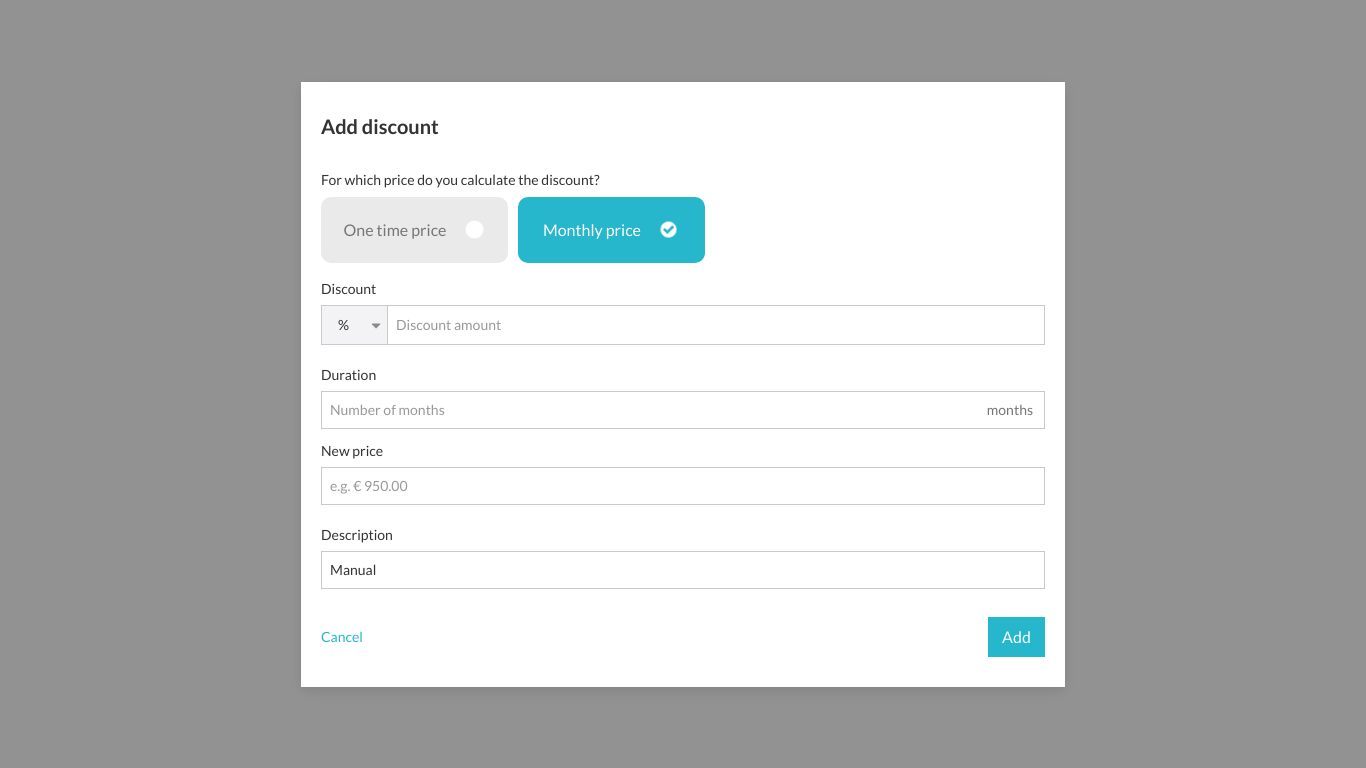
AddDiscountModal › shows an error above 25%
The width and height of the screenshot is (1366, 768).
Type "30" into the number field with placeholder "Discount amount" at (716, 324), box [388, 304, 1045, 344]
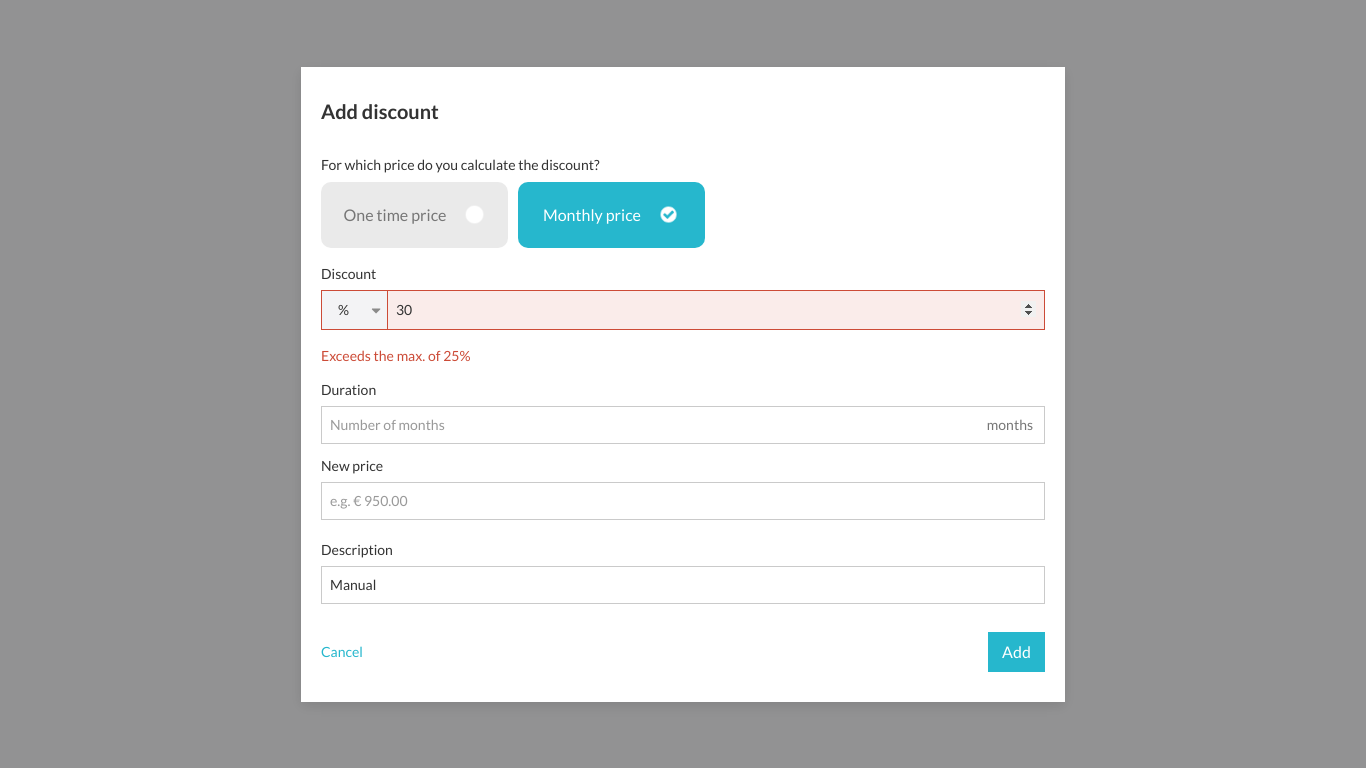
expect the text "Exceeds the max. of 25%" is shown: met, box [321, 346, 470, 364]
